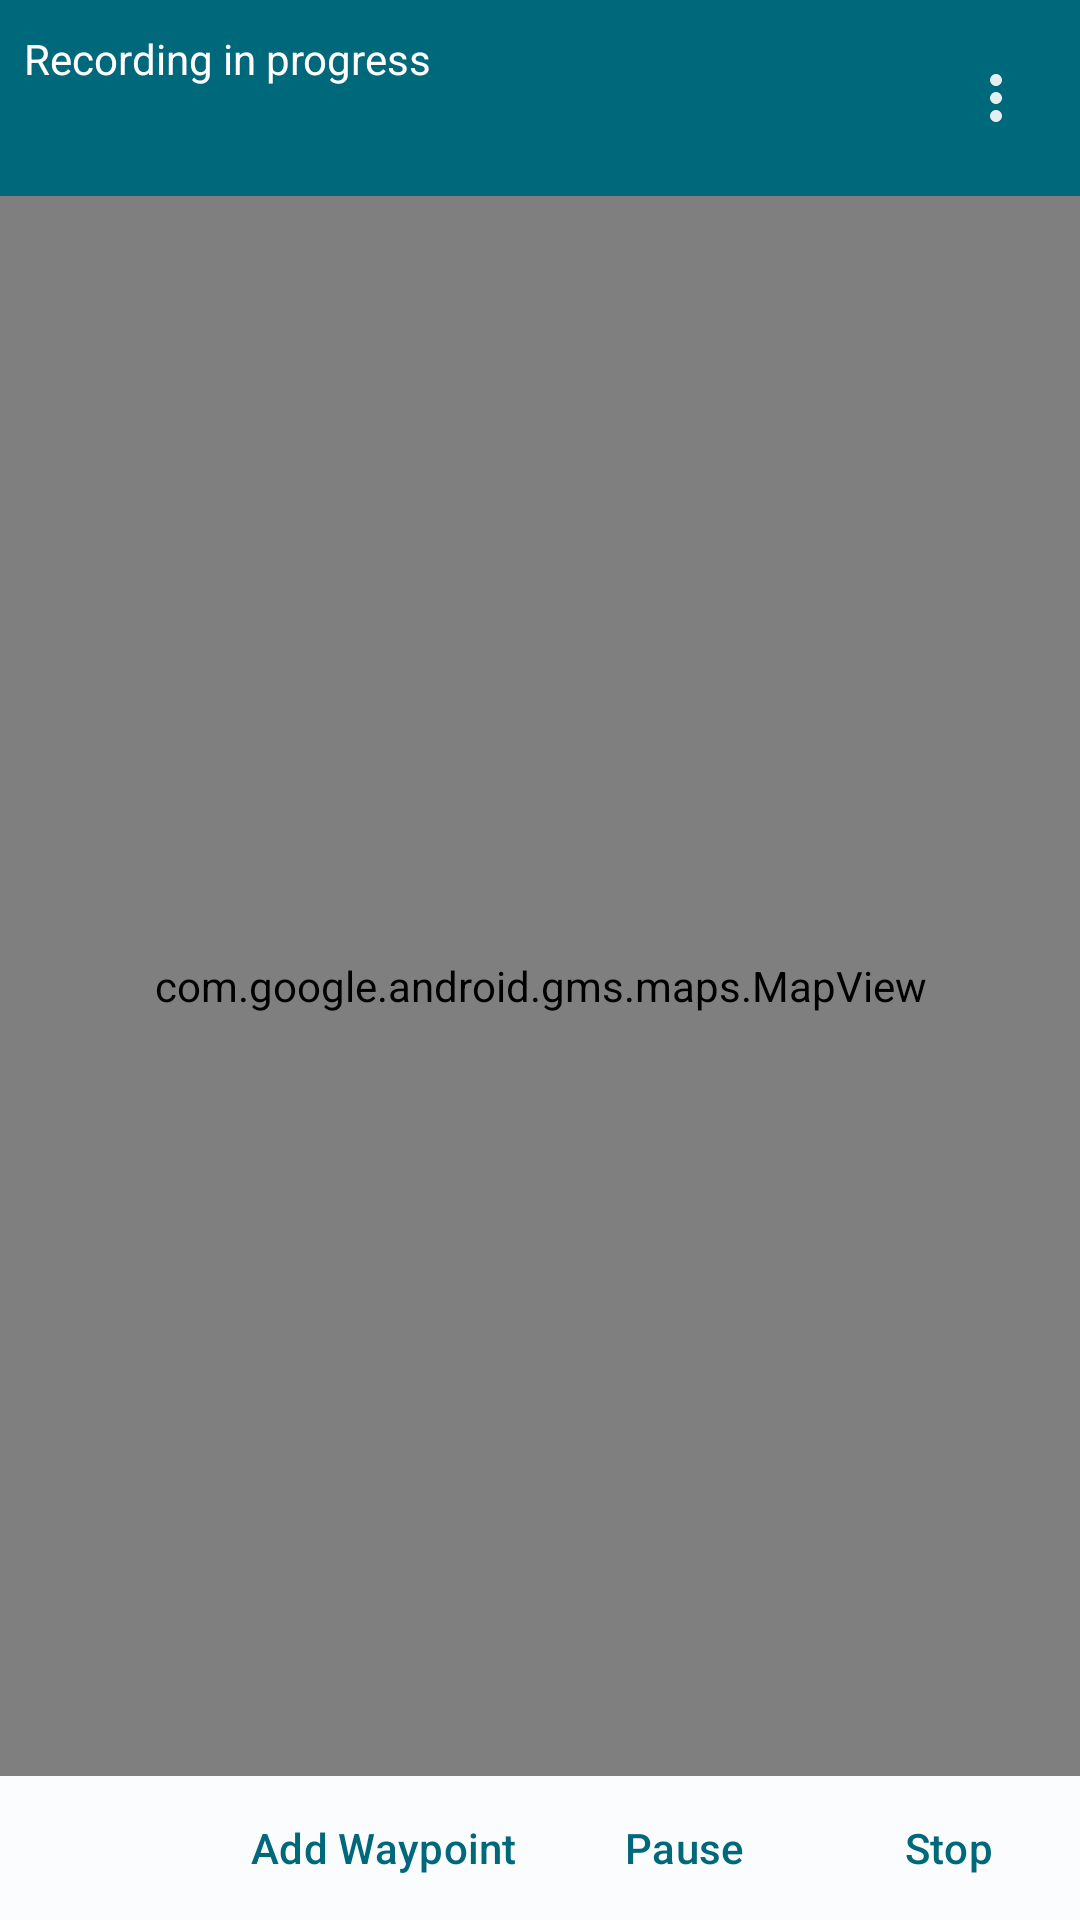

Screen size 1080px×1920px. Icon name, then its center in pixels as [x,y]:
More menu button: [996,98]
